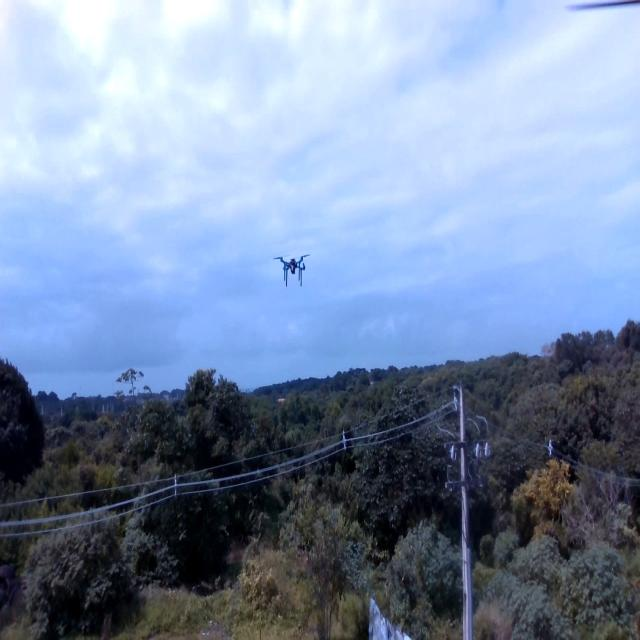-uav-: (268, 231, 312, 296)
